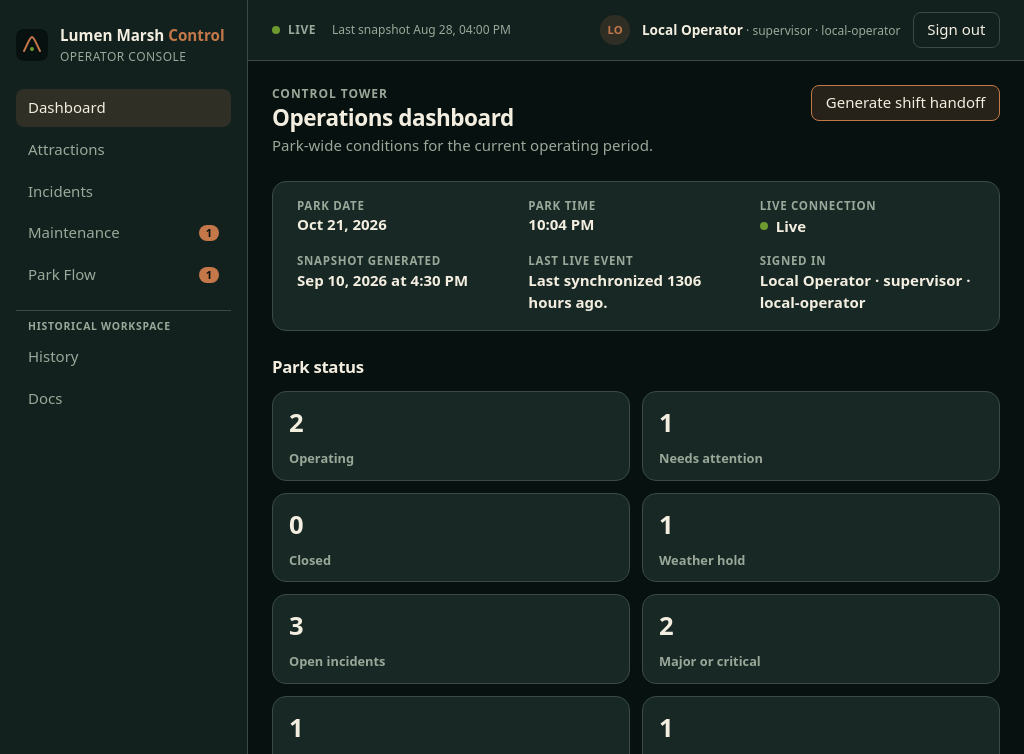
it: Operations dashboard › generates a copyable and printable shift handoff summary
Click the button "Generate shift handoff".
click(906, 103)  # box [811,85,1000,121]
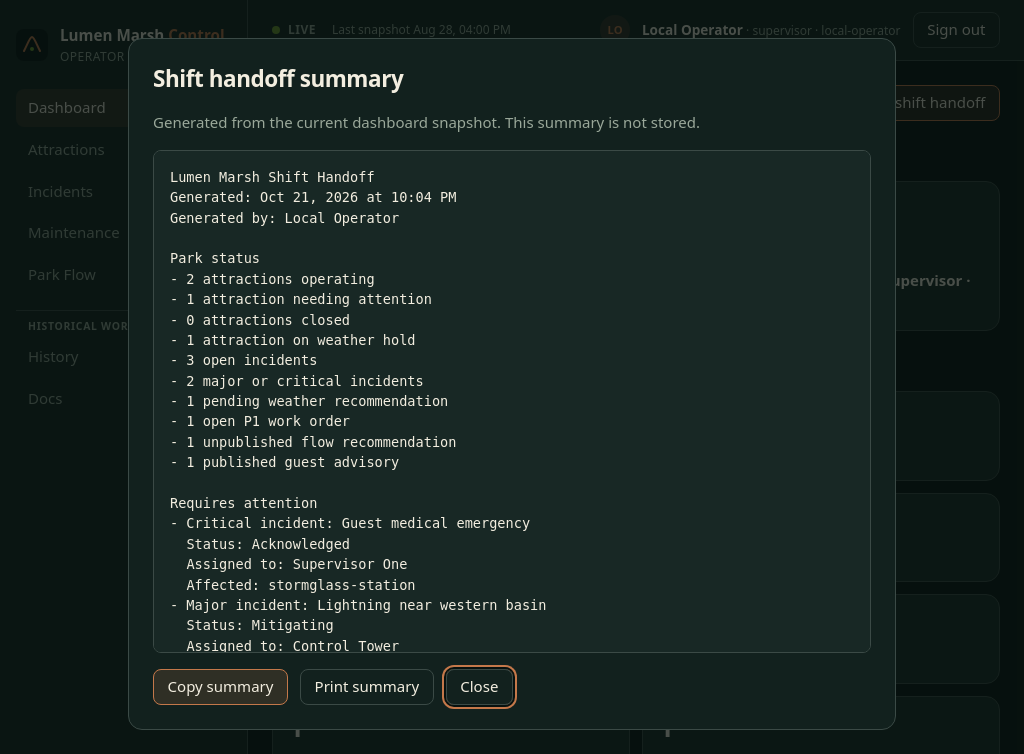
Click the button "Copy summary".
click(220, 687)  # box [153,669,288,705]
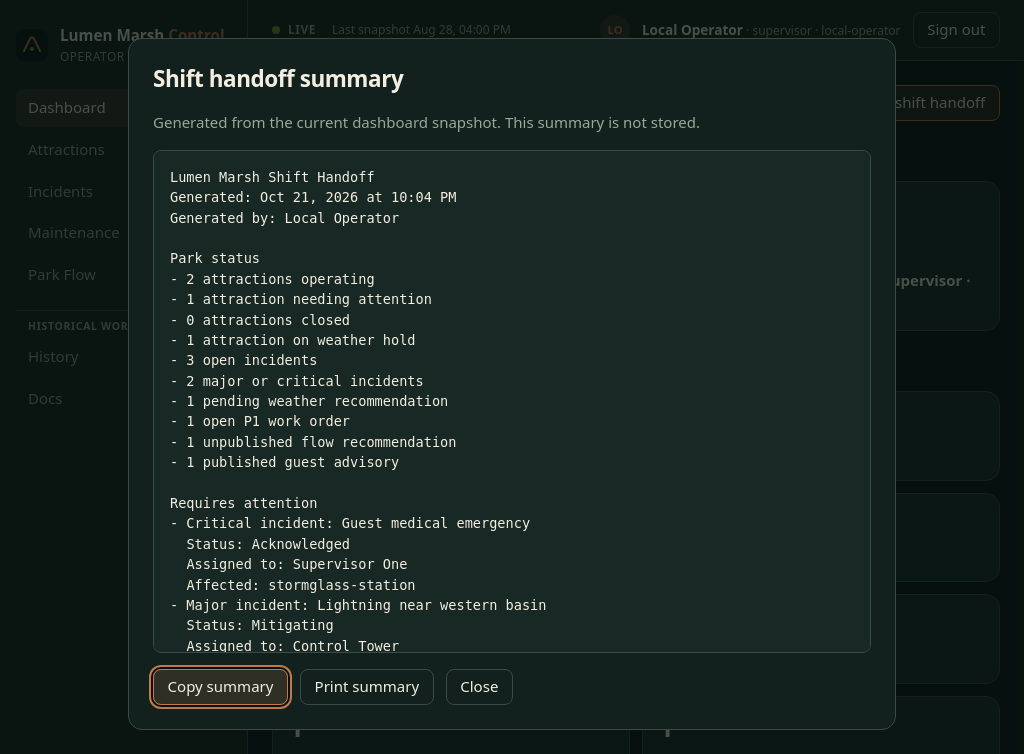
Click the button "Print summary".
click(367, 687)  # box [300,669,434,705]
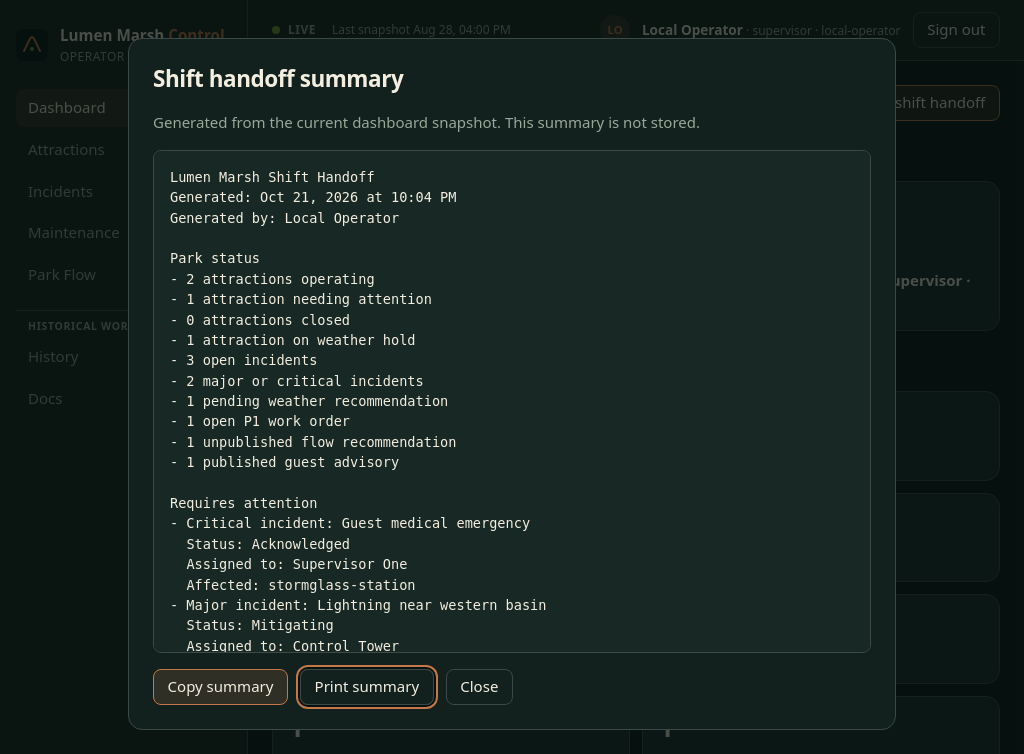
Click the button "Close".
click(479, 687)  # box [446,669,513,705]
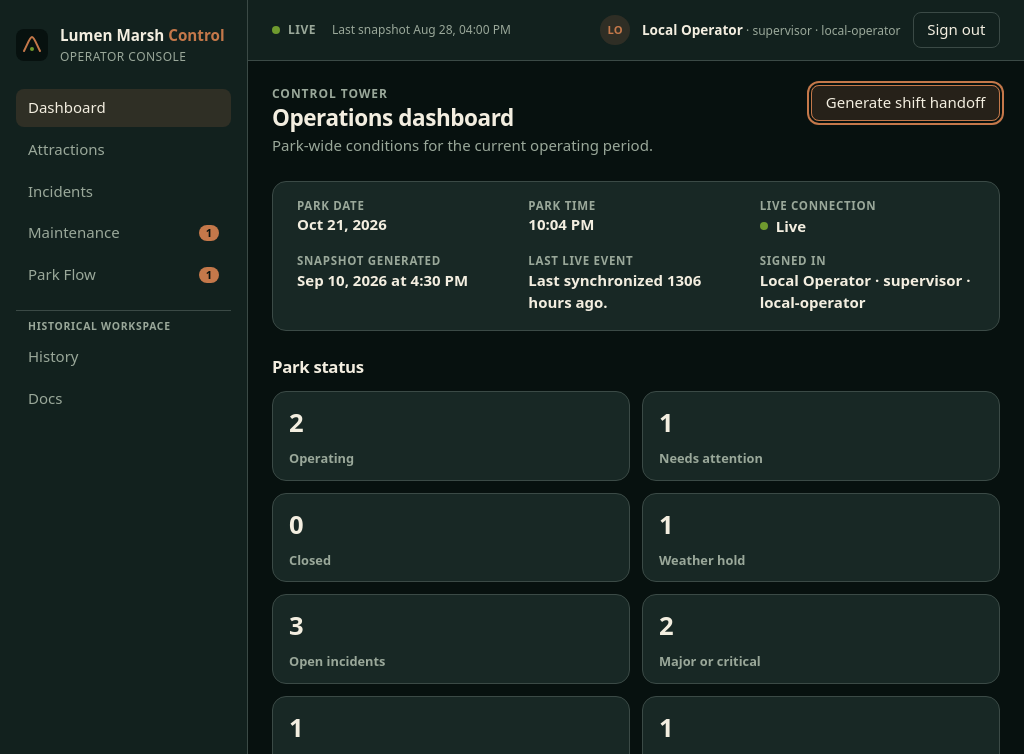
Result: the dialog is gone
